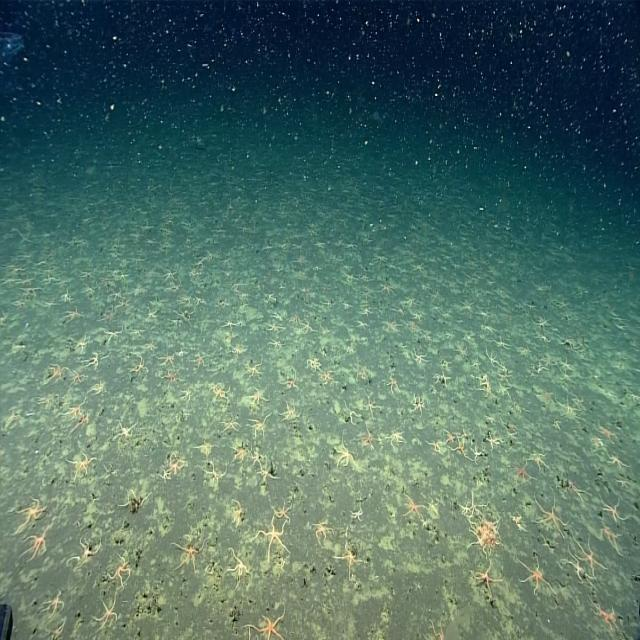brittle-stars: (240, 598, 286, 640), (250, 514, 291, 561), (331, 540, 368, 592), (20, 517, 56, 565), (532, 494, 568, 542), (170, 534, 211, 574), (515, 553, 552, 597), (567, 520, 602, 565), (466, 520, 504, 560), (556, 538, 592, 578), (472, 560, 506, 601), (12, 487, 47, 524), (104, 548, 132, 593), (66, 534, 102, 568), (225, 546, 251, 593), (331, 427, 358, 468), (66, 441, 98, 474), (591, 594, 620, 630), (460, 486, 487, 522), (599, 520, 625, 557), (94, 594, 118, 634), (598, 492, 628, 524), (111, 412, 140, 443), (402, 490, 430, 522), (445, 432, 472, 464), (559, 478, 590, 505), (554, 390, 582, 419), (40, 588, 66, 618), (505, 460, 537, 484), (355, 418, 378, 451), (248, 412, 272, 442), (311, 519, 335, 548), (228, 440, 254, 466), (268, 497, 292, 525), (276, 396, 301, 422), (43, 615, 69, 640), (256, 462, 280, 488), (592, 420, 618, 444), (556, 330, 582, 354), (202, 446, 227, 470), (60, 398, 90, 418), (42, 356, 70, 377), (526, 448, 551, 471), (157, 359, 181, 382), (339, 386, 360, 412), (190, 429, 217, 449), (220, 412, 242, 436), (117, 488, 139, 512), (68, 404, 89, 428), (128, 489, 154, 508), (104, 297, 125, 320), (360, 392, 378, 418), (128, 355, 149, 377), (247, 388, 270, 408), (510, 512, 530, 535), (211, 378, 230, 402), (2, 409, 21, 433), (607, 453, 632, 471), (429, 612, 445, 640), (66, 361, 88, 381), (75, 342, 98, 361), (230, 487, 244, 518), (280, 362, 298, 386), (377, 311, 399, 330), (61, 299, 83, 318), (487, 326, 509, 345), (441, 426, 460, 448), (167, 444, 185, 467), (71, 326, 89, 349), (558, 366, 578, 386), (468, 362, 486, 384), (350, 494, 364, 522), (480, 331, 495, 357), (218, 317, 242, 333), (155, 342, 174, 362), (80, 278, 100, 297), (101, 327, 123, 344), (468, 443, 485, 465), (384, 431, 407, 447), (461, 269, 477, 292), (410, 394, 424, 420), (244, 348, 262, 368), (102, 461, 120, 481), (249, 432, 265, 454), (290, 248, 309, 266), (533, 328, 552, 346), (532, 377, 550, 396), (425, 438, 445, 455), (533, 314, 551, 332), (160, 267, 178, 285), (408, 341, 427, 358), (484, 430, 500, 450), (136, 332, 158, 346), (432, 364, 450, 381), (407, 260, 426, 276), (186, 252, 205, 268), (158, 229, 174, 248), (386, 374, 401, 394), (466, 433, 479, 456), (448, 332, 466, 348), (458, 298, 476, 314), (493, 371, 508, 390), (34, 395, 54, 409), (37, 300, 65, 310), (491, 356, 514, 368), (12, 274, 37, 285), (320, 369, 336, 386), (188, 346, 205, 362), (552, 354, 569, 370), (376, 281, 394, 296), (112, 287, 130, 302), (38, 273, 60, 285), (354, 294, 370, 310), (288, 316, 304, 332), (371, 252, 387, 268), (270, 307, 286, 323), (476, 306, 492, 322), (180, 215, 196, 231), (307, 357, 322, 374), (297, 312, 313, 327), (400, 294, 420, 306), (88, 374, 104, 389), (416, 518, 436, 530), (230, 338, 247, 352), (343, 316, 355, 335), (130, 278, 146, 292), (527, 356, 545, 368), (60, 280, 72, 298), (144, 307, 158, 322), (180, 389, 194, 404), (172, 339, 188, 352), (160, 468, 172, 485), (339, 261, 356, 273), (355, 367, 367, 383), (436, 342, 448, 358), (112, 271, 128, 283), (337, 287, 351, 300), (360, 232, 374, 245), (358, 279, 371, 293), (263, 290, 277, 303), (428, 290, 443, 302), (333, 233, 345, 248), (465, 344, 476, 360), (351, 310, 368, 320), (10, 298, 27, 308), (261, 241, 273, 255), (192, 294, 206, 306), (408, 310, 426, 319), (228, 280, 246, 289), (413, 577, 423, 593), (266, 326, 282, 336), (506, 425, 517, 439), (217, 298, 230, 309), (437, 303, 450, 314), (552, 418, 562, 432), (533, 283, 543, 296), (480, 373, 490, 386), (317, 290, 333, 298), (80, 271, 96, 279), (142, 237, 160, 244), (515, 339, 526, 350), (316, 336, 326, 348), (312, 263, 323, 272), (314, 240, 326, 248), (389, 260, 397, 270), (358, 263, 366, 273)
